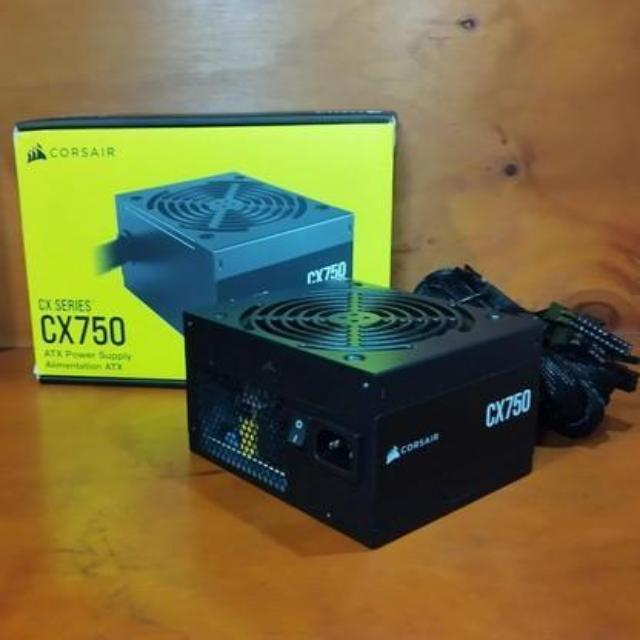PSU: (177, 272, 557, 564)
